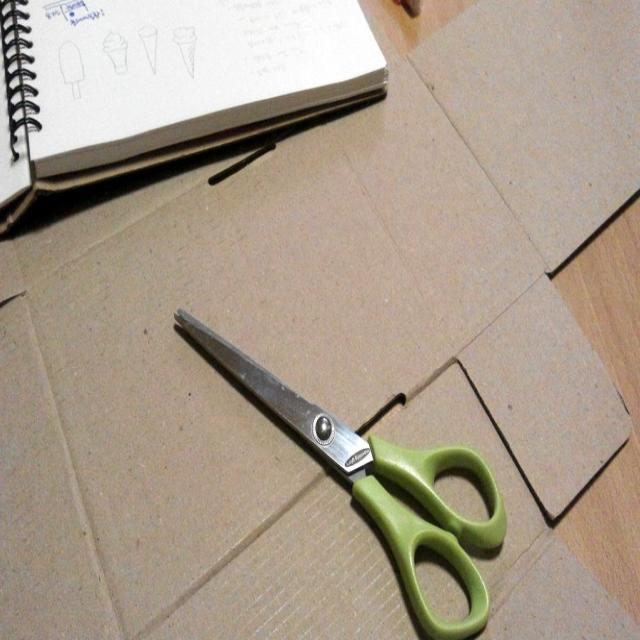scissors: (173, 305, 507, 638)
